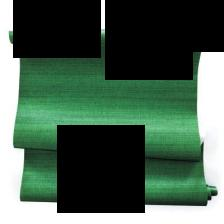green: (10, 26, 218, 206)
